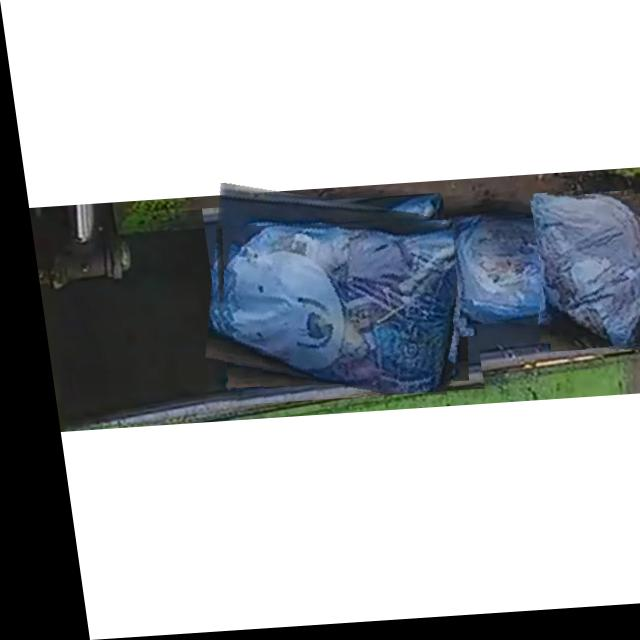other_trashbag: (208, 227, 457, 398), (529, 201, 640, 355), (445, 221, 545, 328)
